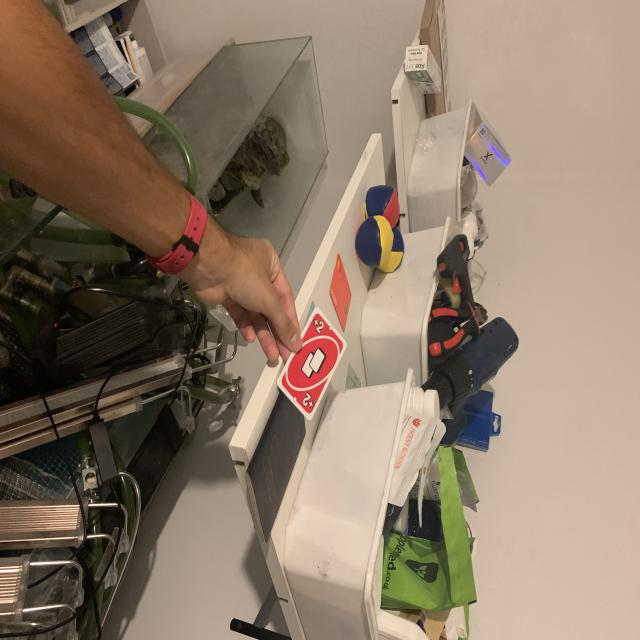lred-20: (311, 316, 327, 336)
